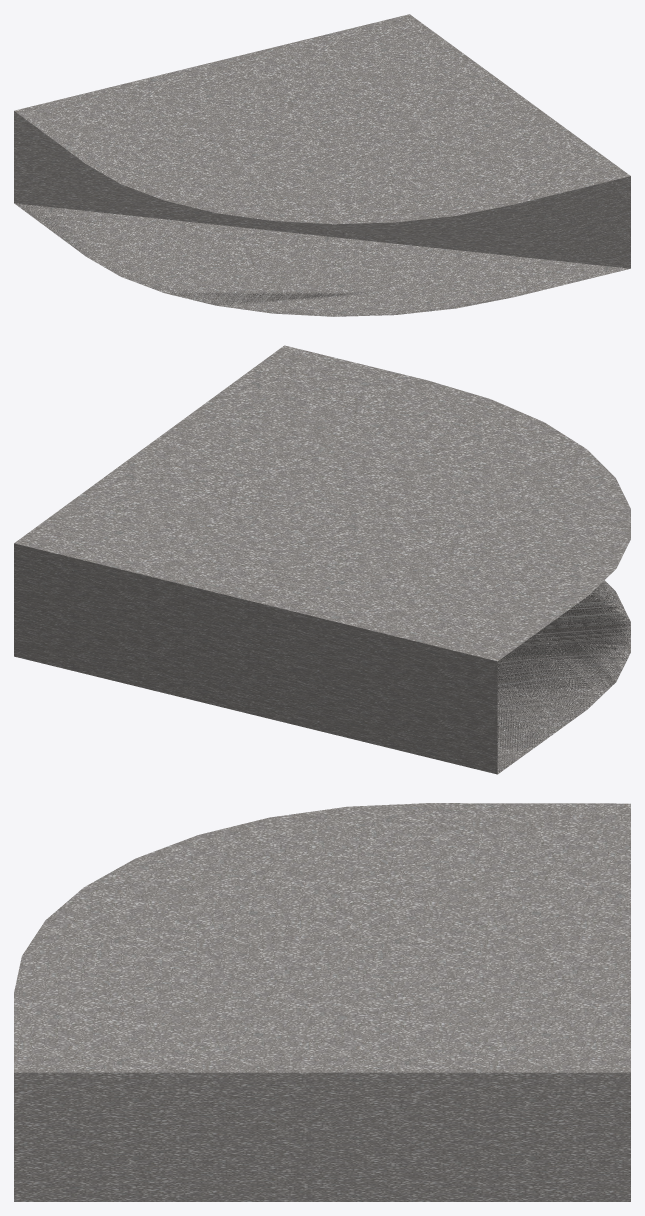
The model's file is Gehweg_rund_aussen.fbx.
3 renders of one model, top to bottom at view 1: azimuth 30°, elevation 25°; view 2: azimuth 150°, elevation 25°; view 3: azimuth 270°, elevation 25°, orthographic. The views are drawn at different scales.
Parts seen in each view (by area): view 1: 1.0 main walk; view 2: 1.0 main walk; view 3: 1.0 main walk.
Part boxes in pixels (x1=…): 1.0 main walk: x1=14, y1=14, x2=630, y2=316; 1.0 main walk: x1=14, y1=345, x2=630, y2=774; 1.0 main walk: x1=14, y1=803, x2=630, y2=1201.
Size of the model in its own units: 291 by 301 by 67.26.
Materials: 1 (1 with a texture image).
